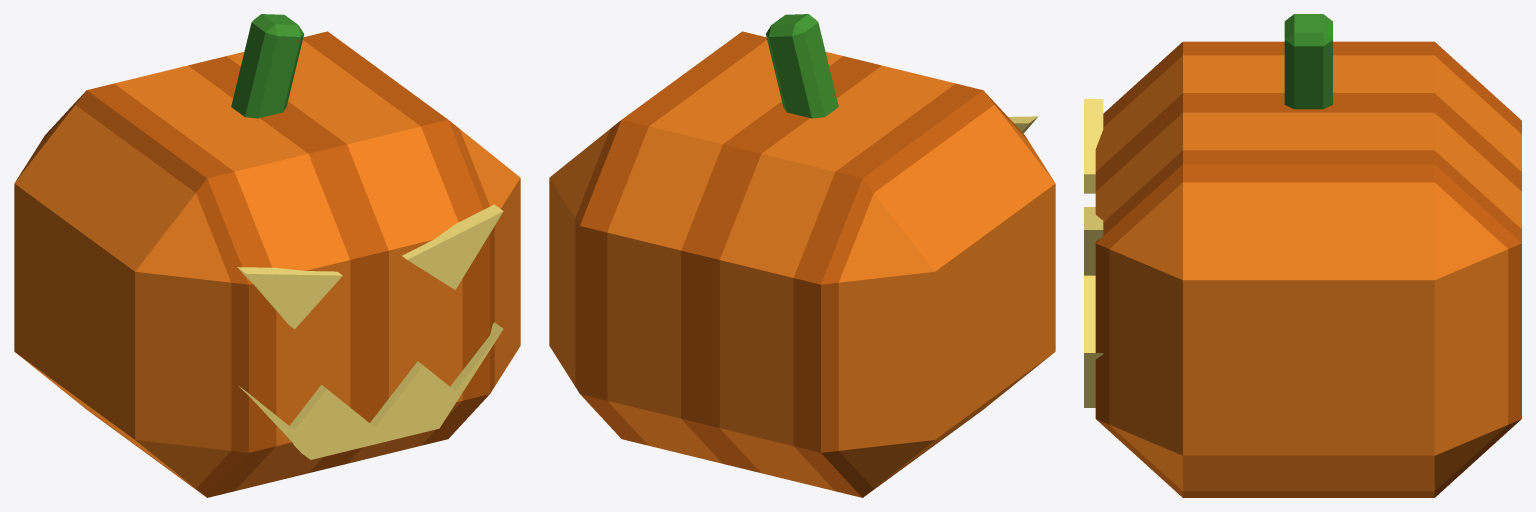
The model's file is ScaryPumpkin.fbx.
3 views of the same model, side by side, from view 1: azimuth 30°, elevation 25°; view 2: azimuth 150°, elevation 25°; view 3: azimuth 270°, elevation 25° (orthographic). The views are drawn at different scales.
Parts seen in each view (by area): view 1: ScaryPumpkin; view 2: ScaryPumpkin; view 3: ScaryPumpkin.
Boxes of the visible parts, x1=… form: ScaryPumpkin: x1=14, y1=14, x2=520, y2=497; ScaryPumpkin: x1=549, y1=14, x2=1055, y2=497; ScaryPumpkin: x1=1084, y1=14, x2=1521, y2=497.
Bounding box in the file's own units: 2.4 × 2.41 × 2.26.
1 material, 1 textured.
